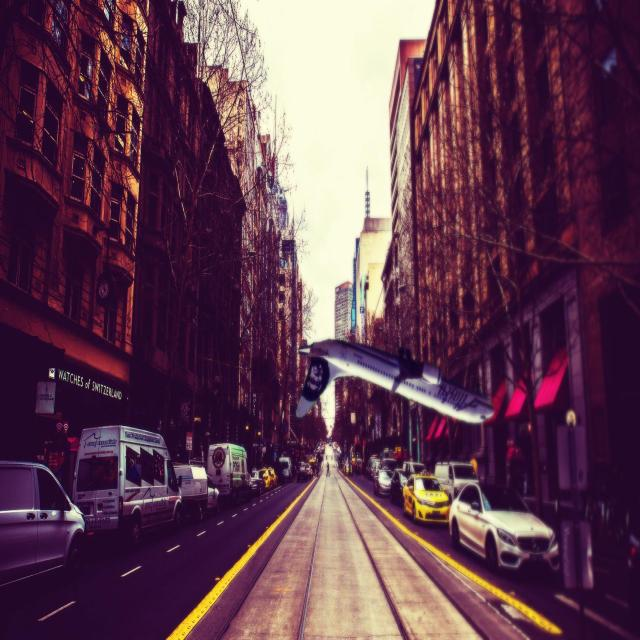airplane: (295, 337, 495, 425)
